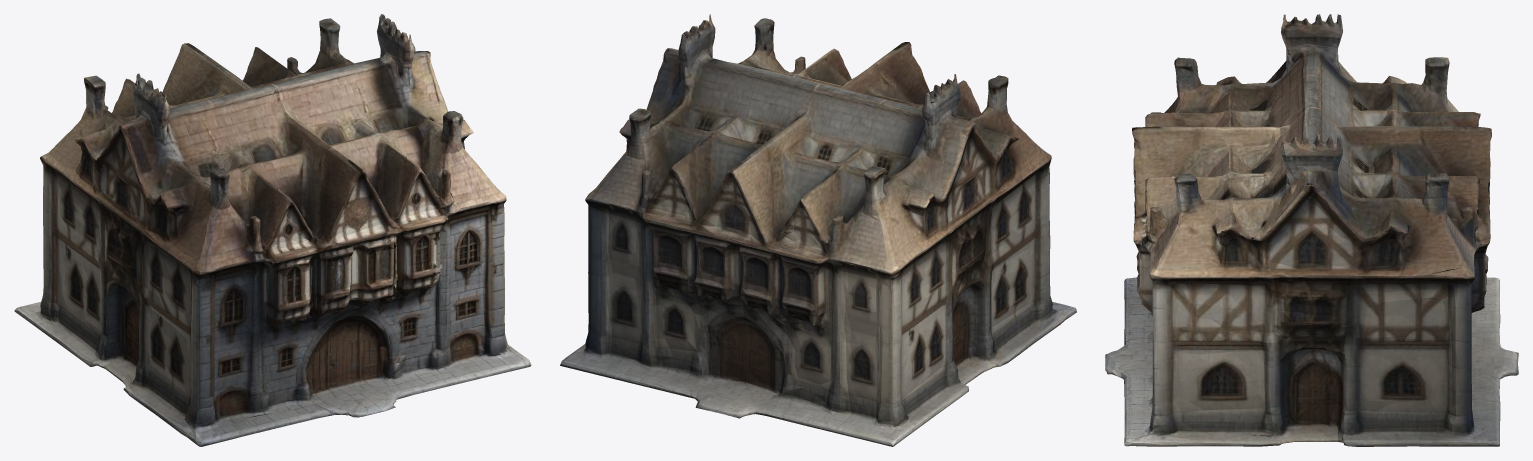
File: house_tudor_corner_lod0.glb
The picture shows the model from 3 angles, left to right: view 1: azimuth 30°, elevation 25°; view 2: azimuth 150°, elevation 25°; view 3: azimuth 270°, elevation 25°; orthographic projection.
Parts seen in each view (by area): view 1: house_tudor_corner_lod0; view 2: house_tudor_corner_lod0; view 3: house_tudor_corner_lod0.
Part boxes in pixels (left/top/right/bottom): house_tudor_corner_lod0: left=14, top=14, right=531, bottom=446; house_tudor_corner_lod0: left=560, top=14, right=1076, bottom=446; house_tudor_corner_lod0: left=1105, top=14, right=1518, bottom=446.
Bounding box in the file's own units: 8.48 × 6.94 × 8.95.
1 material, 1 textured.
